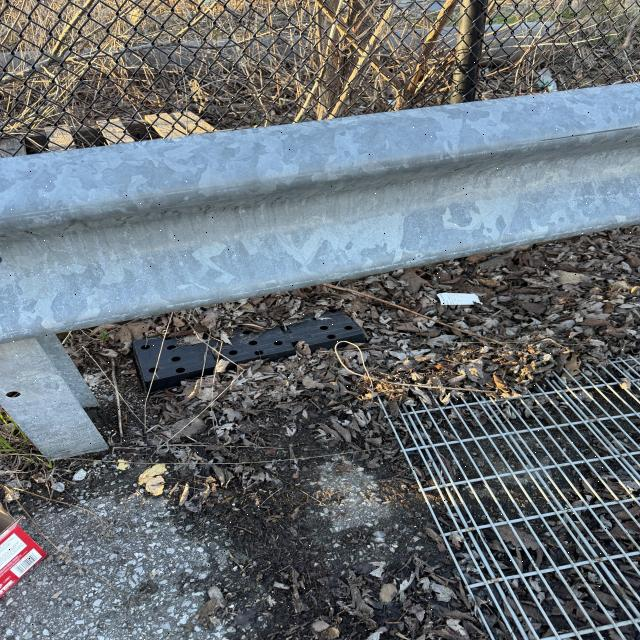Guard rail: (26, 100, 637, 318)
